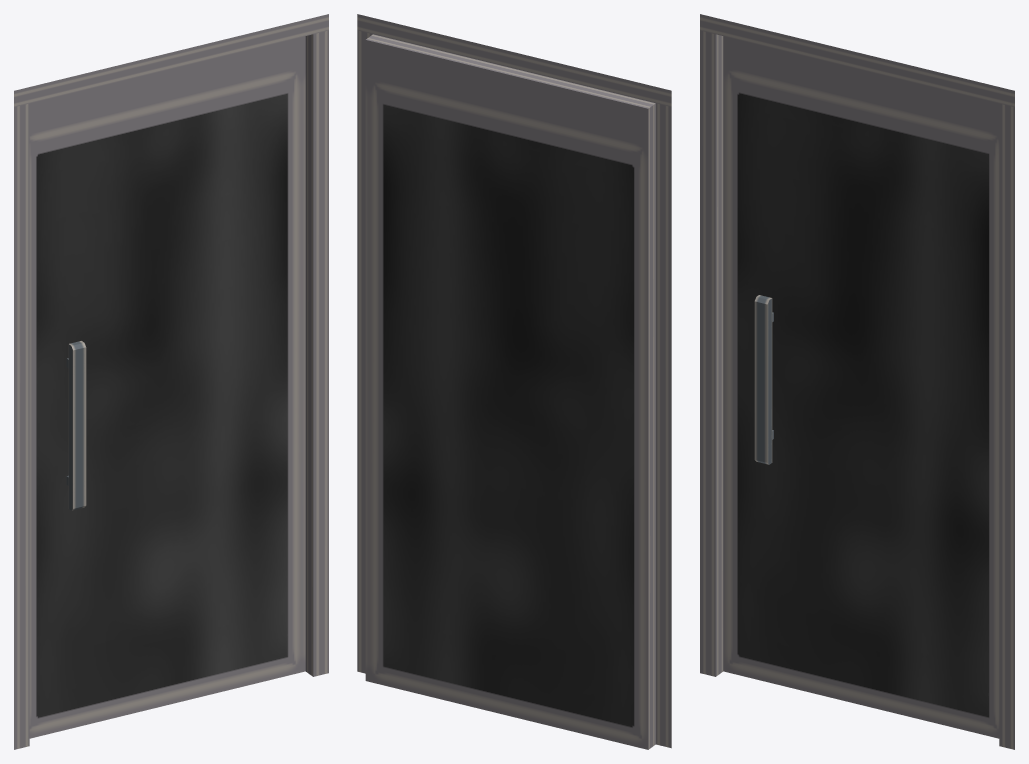
The model's file is SM_ENV_K3_DOOR_01.fbx.
The picture shows the model from 3 angles, left to right: view 1: azimuth 30°, elevation 25°; view 2: azimuth 150°, elevation 25°; view 3: azimuth 330°, elevation 25°; orthographic projection.
Parts seen in each view (by area): view 1: SM_ENV_K3_DOOR_01; view 2: SM_ENV_K3_DOOR_01; view 3: SM_ENV_K3_DOOR_01.
Boxes of the visible parts, left/top/right/bottom form: SM_ENV_K3_DOOR_01: left=14, top=14, right=328, bottom=749; SM_ENV_K3_DOOR_01: left=357, top=14, right=671, bottom=749; SM_ENV_K3_DOOR_01: left=700, top=14, right=1014, bottom=749.
Bounding box in the file's own units: 1.2 × 2.4 × 0.065.
